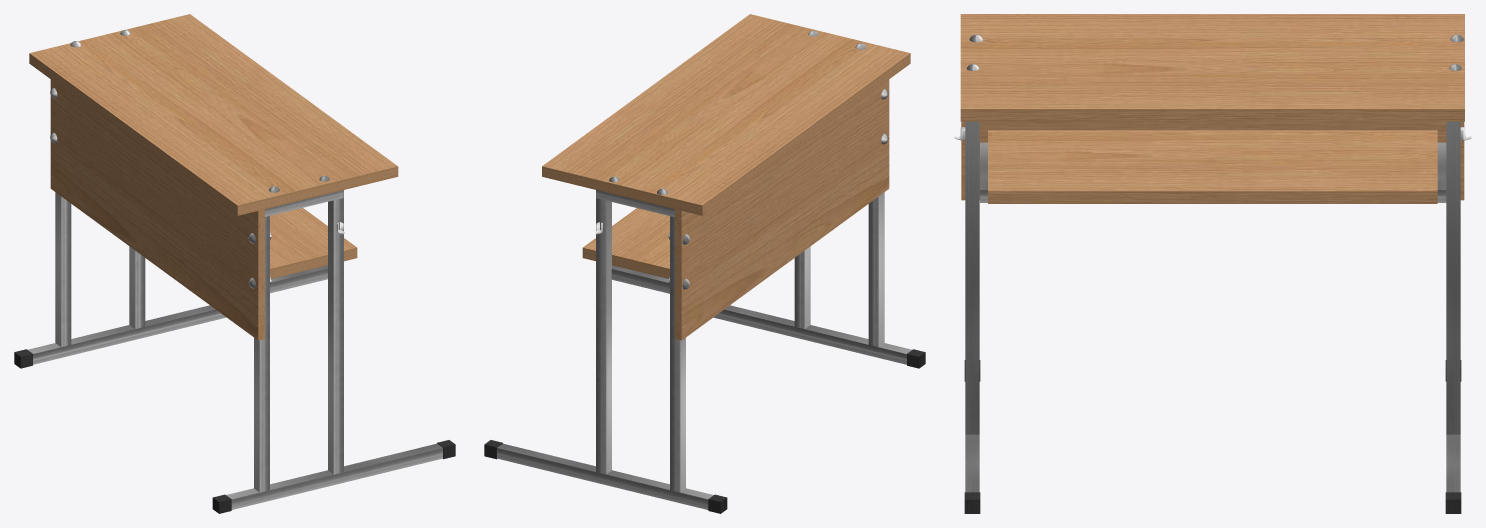
Rendered from school desk.fbx.
The picture shows the model from 3 angles, left to right: view 1: azimuth 30°, elevation 25°; view 2: azimuth 150°, elevation 25°; view 3: azimuth 270°, elevation 25°; orthographic projection. The views are drawn at different scales.
Visible parts, largest first — view 1: Cube, Cube.008, Cube.002, Cube.003, Cube.004, Cube.009, Cube.005, Cube.001, Cube.007; view 2: Cube, Cube.008, Cube.002, Cube.003, Cube.004, Cube.009, Cube.005, Cube.001, Cube.007; view 3: Cube, Cube.009, Cube.003, Cube.008, Cube.002, Cube.005, Cube.006.
Boxes of the visible parts, box(x1,y1,x2,y2) form: Cube: box(29, 14, 398, 215); Cube.008: box(50, 79, 264, 340); Cube.002: box(28, 305, 442, 509); Cube.003: box(129, 190, 343, 474); Cube.004: box(55, 192, 269, 492); Cube.009: box(270, 208, 357, 278); Cube.005: box(270, 265, 327, 293); Cube.001: box(265, 190, 343, 216); Cube.007: box(14, 349, 231, 513); Cube: box(542, 14, 910, 215); Cube.008: box(675, 79, 889, 340); Cube.002: box(497, 305, 911, 509); Cube.003: box(596, 198, 810, 474); Cube.004: box(670, 192, 884, 492); Cube.009: box(582, 208, 669, 278); Cube.005: box(611, 265, 669, 293); Cube.001: box(596, 190, 674, 217); Cube.007: box(708, 349, 925, 513); Cube: box(960, 14, 1464, 121); Cube.009: box(988, 130, 1437, 203); Cube.003: box(965, 121, 1460, 434); Cube.008: box(961, 121, 1464, 200); Cube.002: box(965, 434, 1460, 492); Cube.005: box(980, 142, 1446, 202); Cube.006: box(964, 492, 1461, 513).
Bounding box in the file's own units: 1086 × 1357 × 1700.
Materials: 5 (4 with a texture image).
